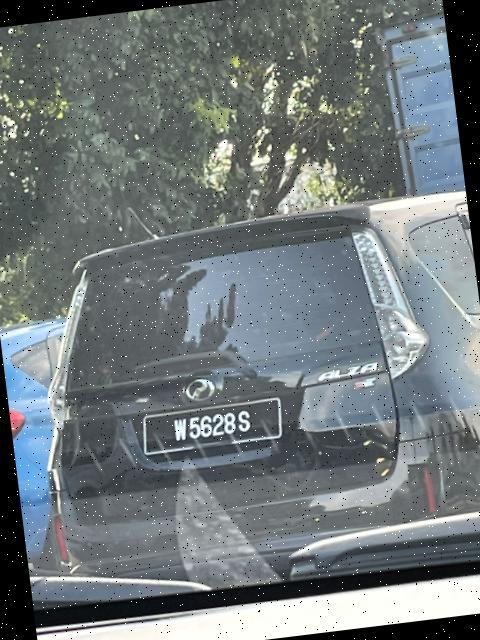License_Plate: (145, 400, 279, 456)
car: (20, 187, 480, 597)
